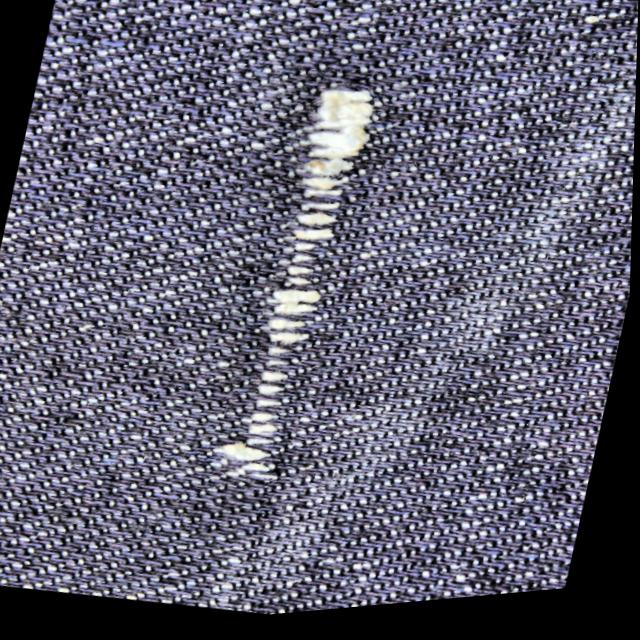Hole: (263, 70, 414, 191), (229, 186, 385, 298), (188, 391, 327, 514), (211, 281, 348, 400)
